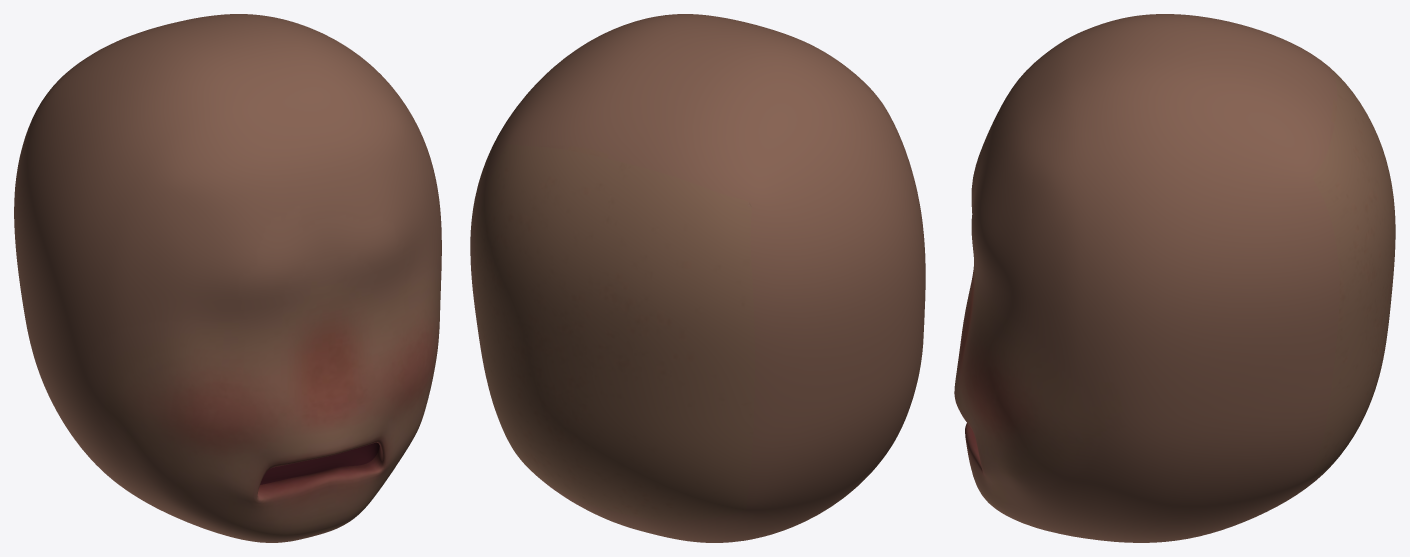
Rendered from head4.glb.
3 renders of one model, left to right at view 1: azimuth 30°, elevation 25°; view 2: azimuth 150°, elevation 25°; view 3: azimuth 270°, elevation 25°, orthographic. The views are drawn at different scales.
Visible parts, largest first — view 1: head.004; view 2: head.004; view 3: head.004.
Part boxes in pixels (x1,y1,x2,y2): head.004: (14,14,441,542); head.004: (470,14,925,542); head.004: (954,14,1395,542).
Size of the model in its own units: 1.35 by 1.62 by 1.34.
Materials: 1 (1 with a texture image).
